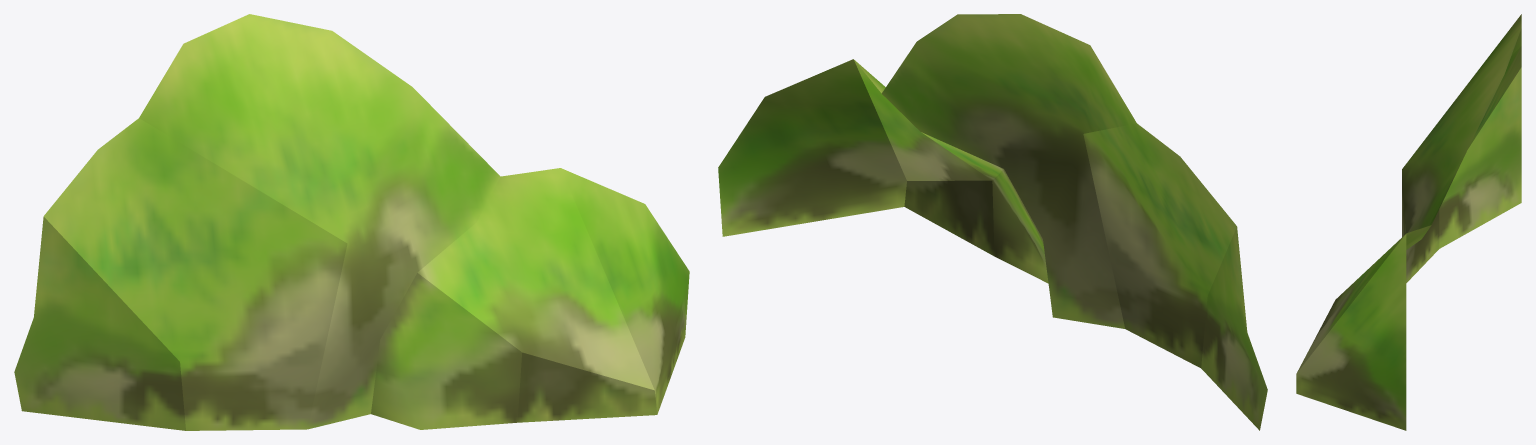
Rendered from OM_S01_ny_rock01BD.fbx.
The picture shows the model from 3 angles, left to right: view 1: azimuth 30°, elevation 25°; view 2: azimuth 150°, elevation 25°; view 3: azimuth 270°, elevation 25°; orthographic projection. The views are drawn at different scales.
Parts seen in each view (by area): view 1: OM_S01_ny_rock01BD; view 2: OM_S01_ny_rock01BD; view 3: OM_S01_ny_rock01BD.
Part boxes in pixels (<box>): OM_S01_ny_rock01BD: <box>14,14,689,430</box>; OM_S01_ny_rock01BD: <box>718,14,1267,430</box>; OM_S01_ny_rock01BD: <box>1296,14,1521,430</box>.
Size of the model in its own units: 340 by 193 by 146.
